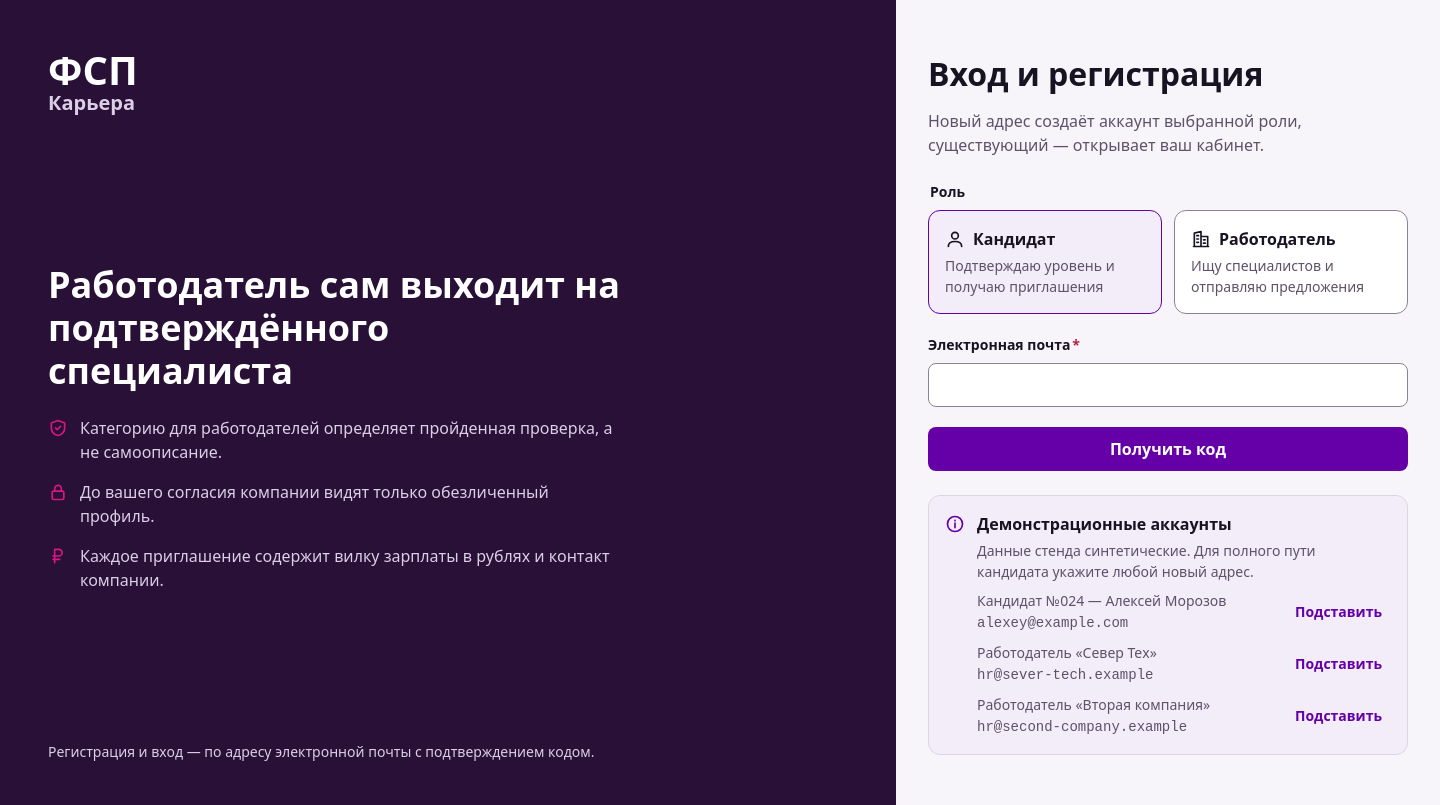
Test: email sign-in › tells the user that an existing account cannot change its role
Click the text "Работодатель".
click(1263, 239)  # box [1191,228,1336,250]
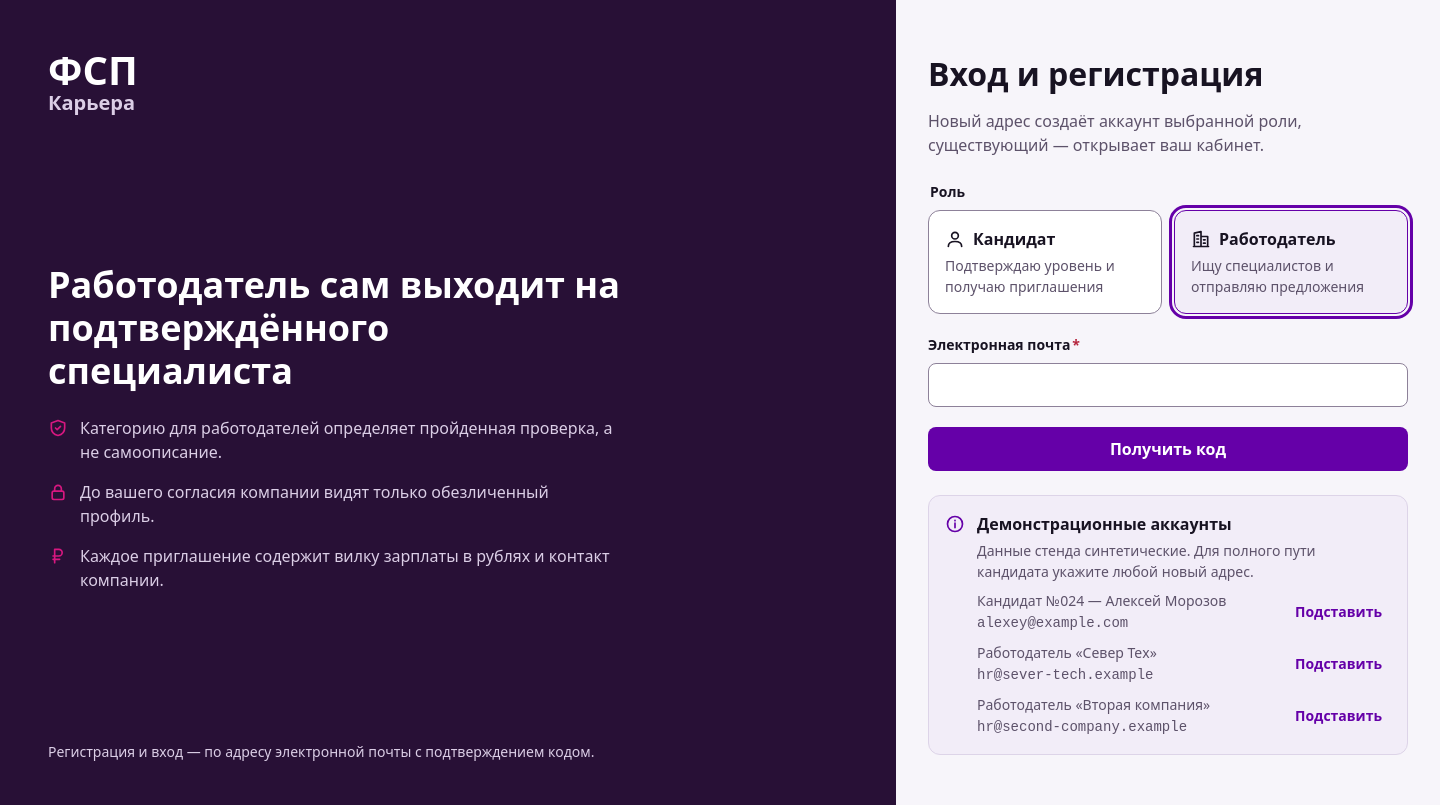
Type "alexey@example.com" into the field labelled "Электронная почта*".
click(1168, 385); type("alexey@example.com")  # box [928,363,1408,407]
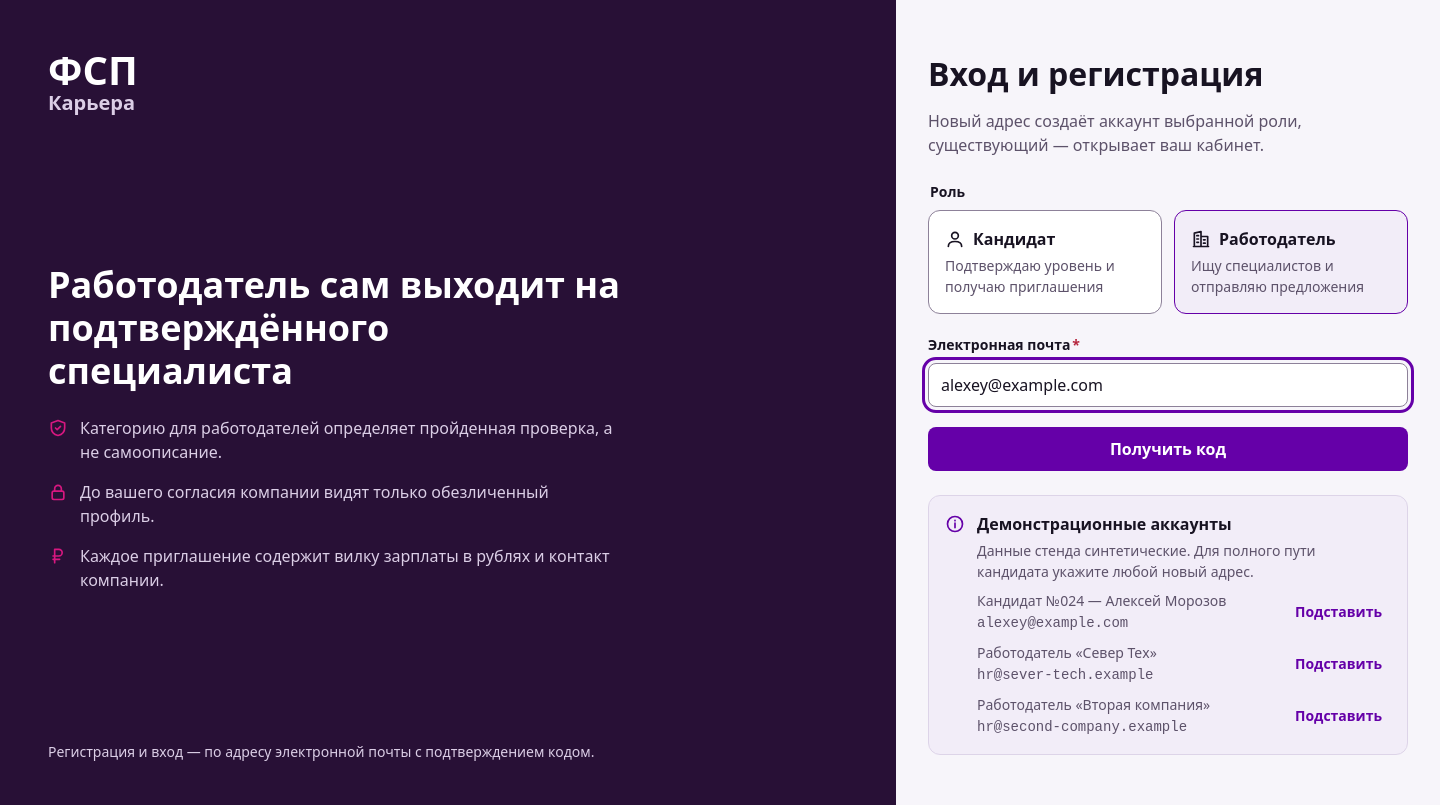
Click the button "Получить код".
click(1168, 449)  # box [928,427,1408,471]
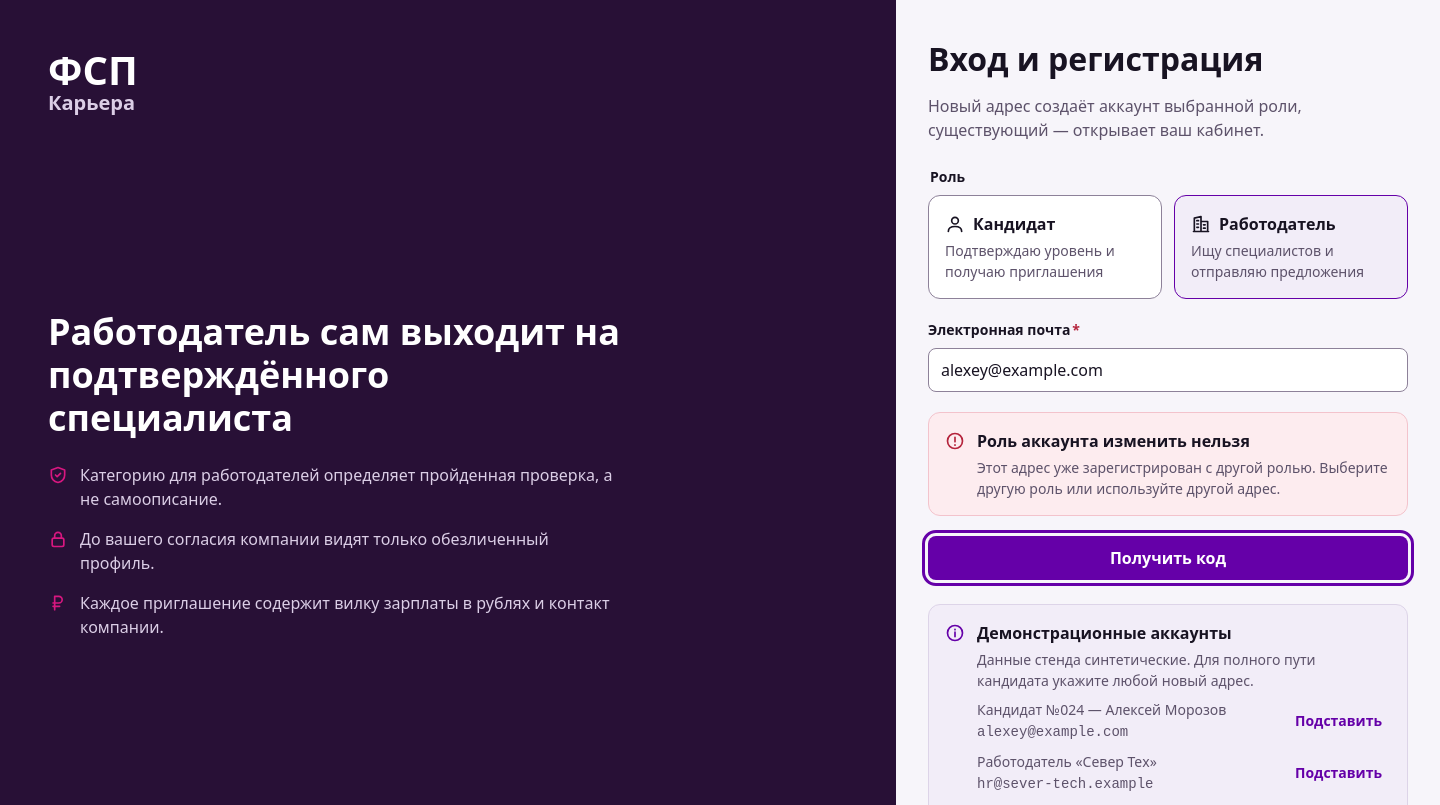
Check: the text "Роль аккаунта изменить нельзя" is shown, box [977,430,1250,452]
